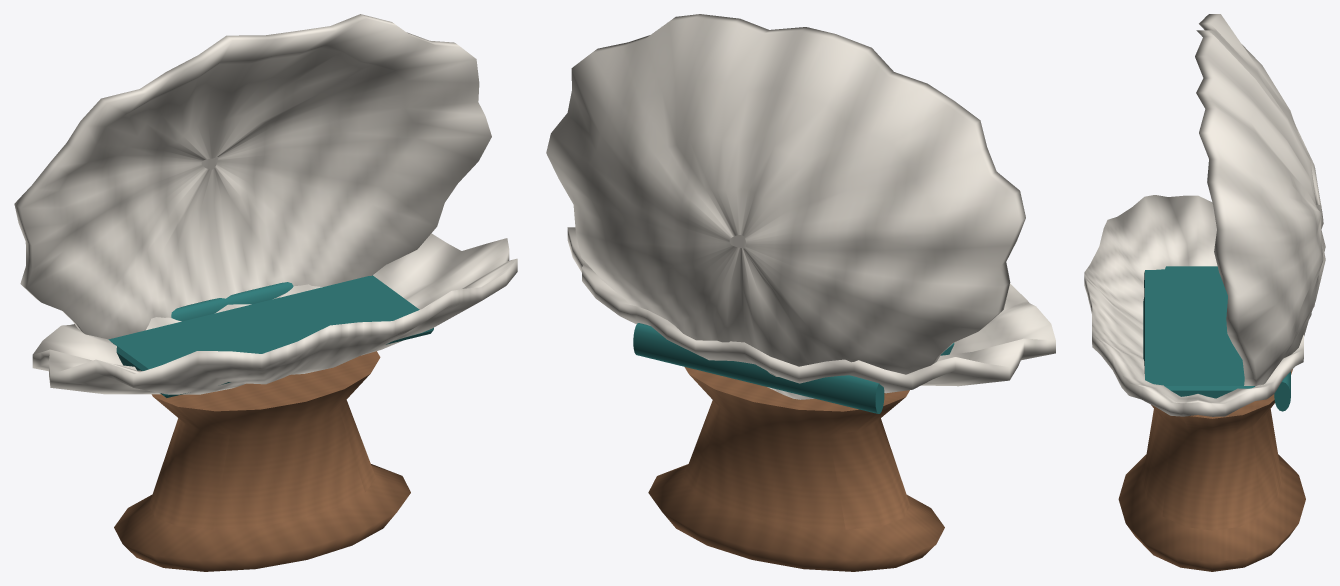
Rendered from s10-nacre-cradle-balanced.glb.
The picture shows the model from 3 angles, left to right: view 1: azimuth 30°, elevation 25°; view 2: azimuth 150°, elevation 25°; view 3: azimuth 270°, elevation 25°; orthographic projection. The views are drawn at different scales.
Parts seen in each view (by area): view 1: Upper valve, Teak foot and mineral pedestal, Lower valve, Hinge and level gift shelf; view 2: Upper valve, Teak foot and mineral pedestal, Lower valve, Hinge and level gift shelf; view 3: Upper valve, Teak foot and mineral pedestal, Lower valve, Hinge and level gift shelf.
Boxes of the visible parts, x1,y1,x2,y2 form: Upper valve: (14,14,491,339); Teak foot and mineral pedestal: (114,351,410,571); Lower valve: (32,233,517,394); Hinge and level gift shelf: (108,275,433,397); Upper valve: (546,14,1025,399); Teak foot and mineral pedestal: (648,367,944,571); Lower valve: (567,227,1055,393); Hinge and level gift shelf: (633,323,954,413); Upper valve: (1195,14,1325,386); Teak foot and mineral pedestal: (1118,369,1305,571); Lower valve: (1084,195,1311,416); Hinge and level gift shelf: (1143,266,1290,411).
Size of the model in its own units: 2.6 by 2.62 by 1.24.
Materials: 1 (1 with a texture image).
